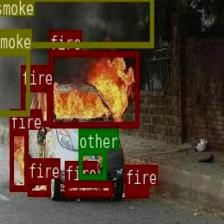fire: (49, 50, 138, 127), (20, 85, 50, 126), (9, 129, 28, 190), (64, 181, 112, 195), (27, 178, 50, 196), (124, 186, 148, 196)
smoke: (0, 0, 153, 46), (0, 49, 29, 115)
